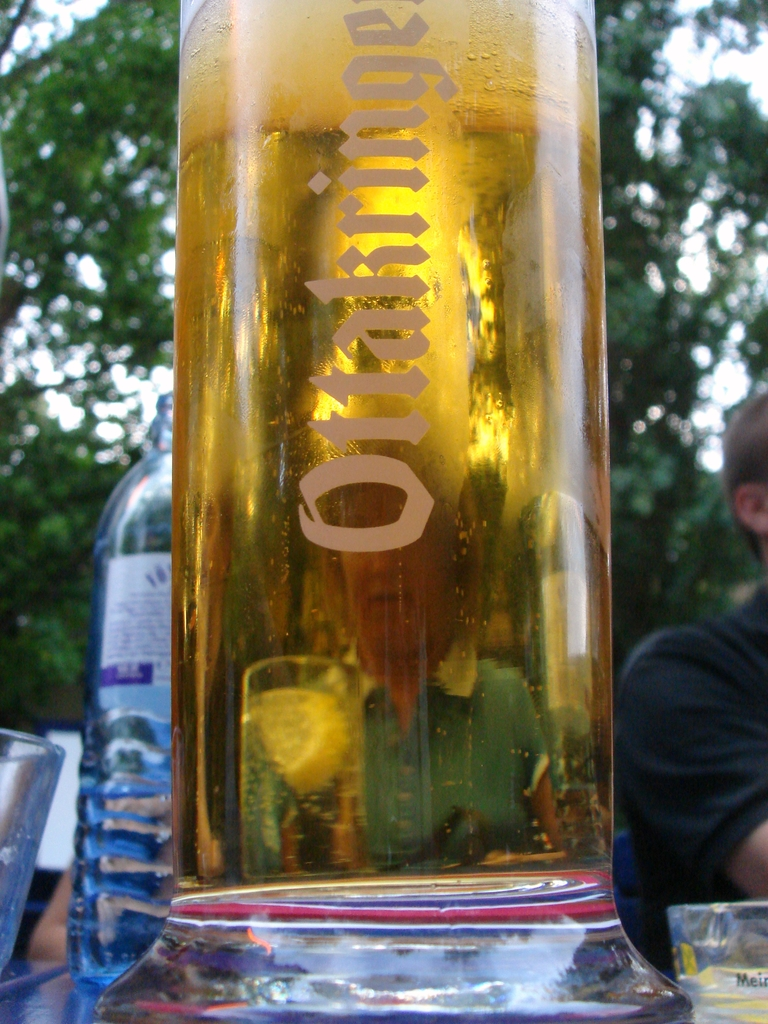Beer: (162, 1, 699, 1020)
